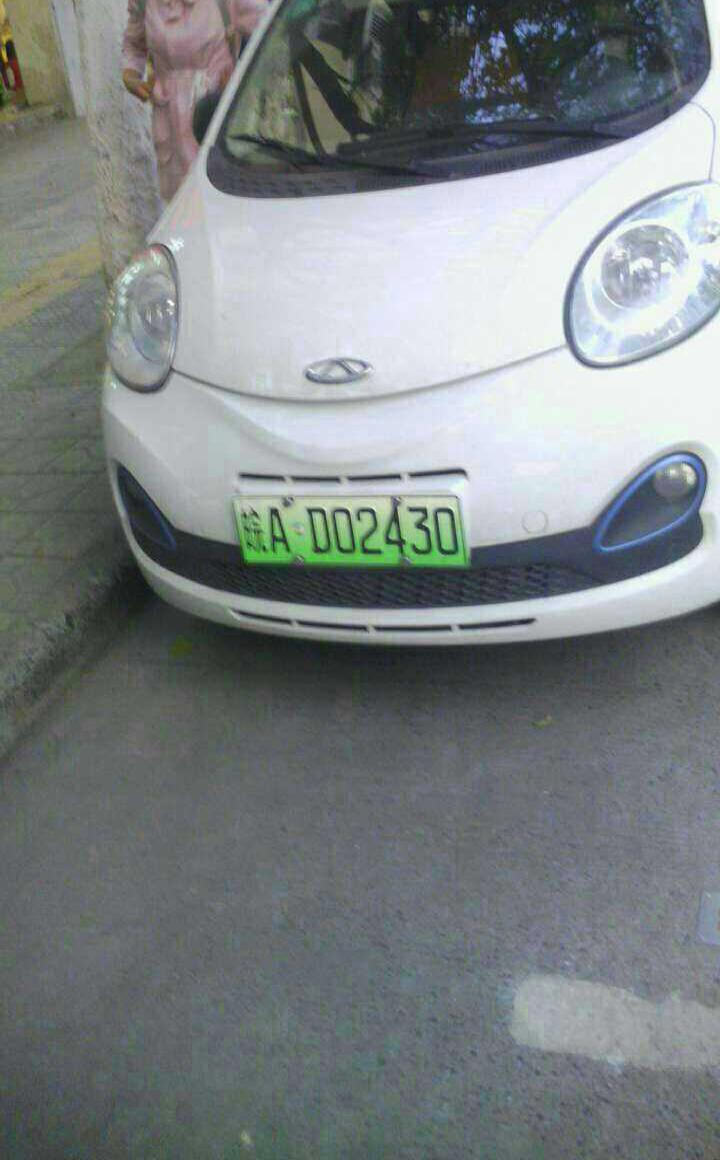car_id: (230, 494, 464, 566)
